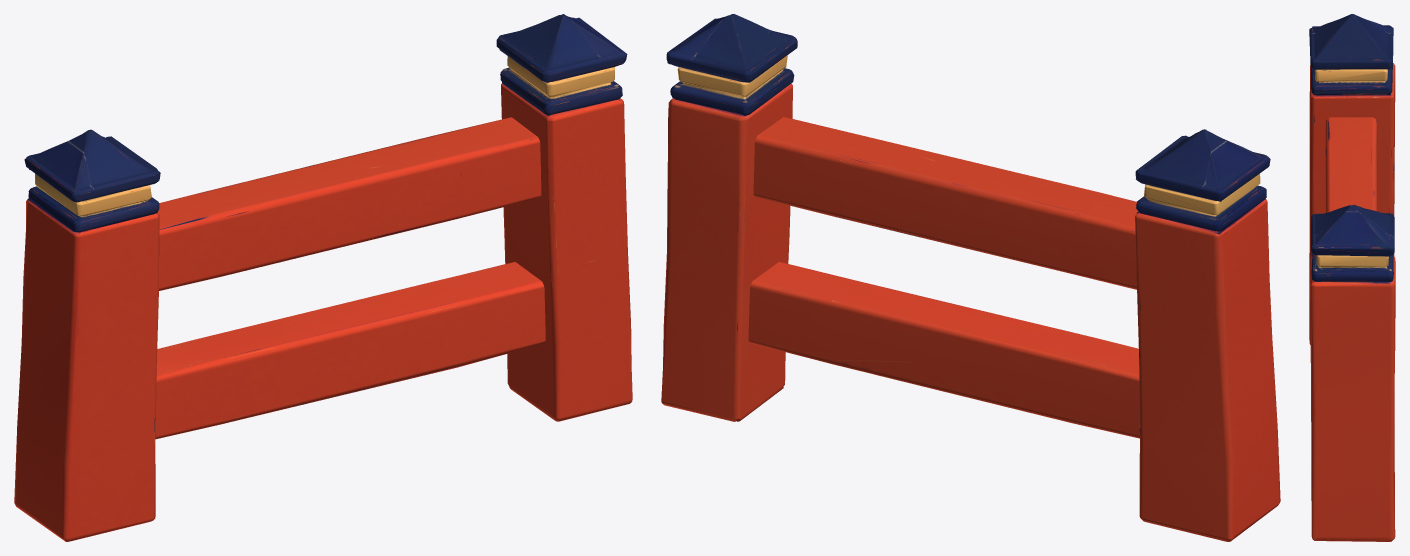
Rendered from railing_segment.glb.
3 views of the same model, side by side, from view 1: azimuth 30°, elevation 25°; view 2: azimuth 150°, elevation 25°; view 3: azimuth 270°, elevation 25° (orthographic). The views are drawn at different scales.
Bounding box in the file's own units: 1 × 0.6465 × 0.1587.
1 material, 1 textured.
